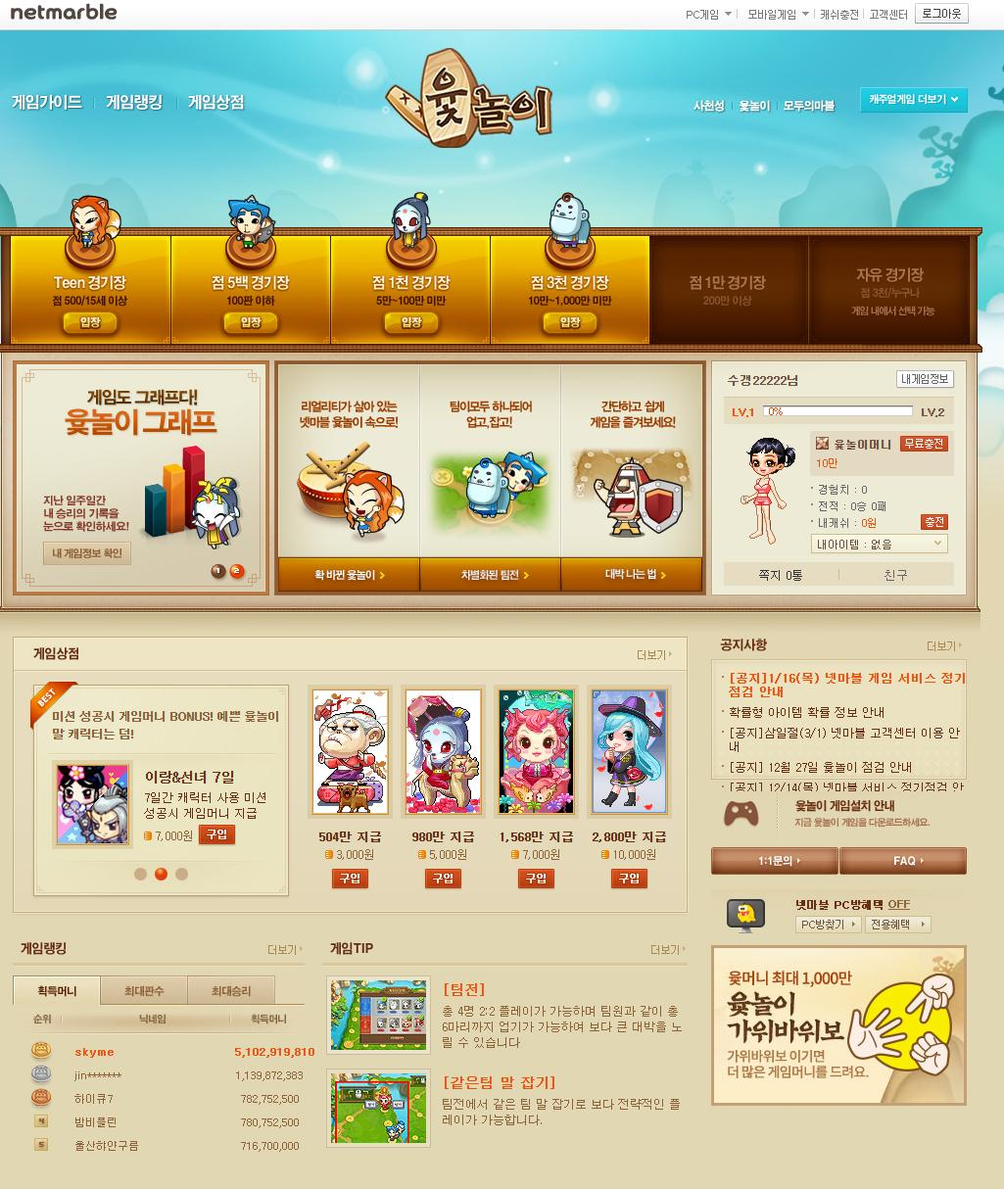button: (13, 362, 269, 595), (325, 1058, 695, 1155), (324, 974, 691, 1055), (9, 234, 169, 345), (491, 236, 650, 342), (171, 237, 327, 345), (333, 234, 487, 343), (424, 557, 557, 594), (281, 557, 416, 593), (561, 559, 704, 589), (840, 847, 968, 876), (711, 847, 836, 875), (860, 86, 967, 113), (192, 975, 274, 1005), (107, 977, 186, 1004), (20, 979, 98, 1004), (13, 90, 85, 117), (103, 92, 169, 116), (187, 92, 250, 115), (681, 8, 739, 28), (916, 3, 968, 25), (744, 8, 810, 25), (866, 917, 931, 933), (797, 917, 861, 933), (782, 97, 837, 115), (196, 822, 237, 846), (898, 371, 954, 388), (426, 866, 463, 890), (634, 644, 678, 664), (517, 867, 557, 888), (264, 940, 308, 959), (900, 435, 949, 452), (647, 940, 690, 959), (332, 868, 369, 890), (923, 636, 969, 653), (611, 868, 648, 889), (822, 6, 861, 25), (691, 97, 730, 116), (870, 6, 912, 22), (734, 98, 773, 115), (921, 514, 948, 530)
checkbox: (814, 537, 948, 553)
